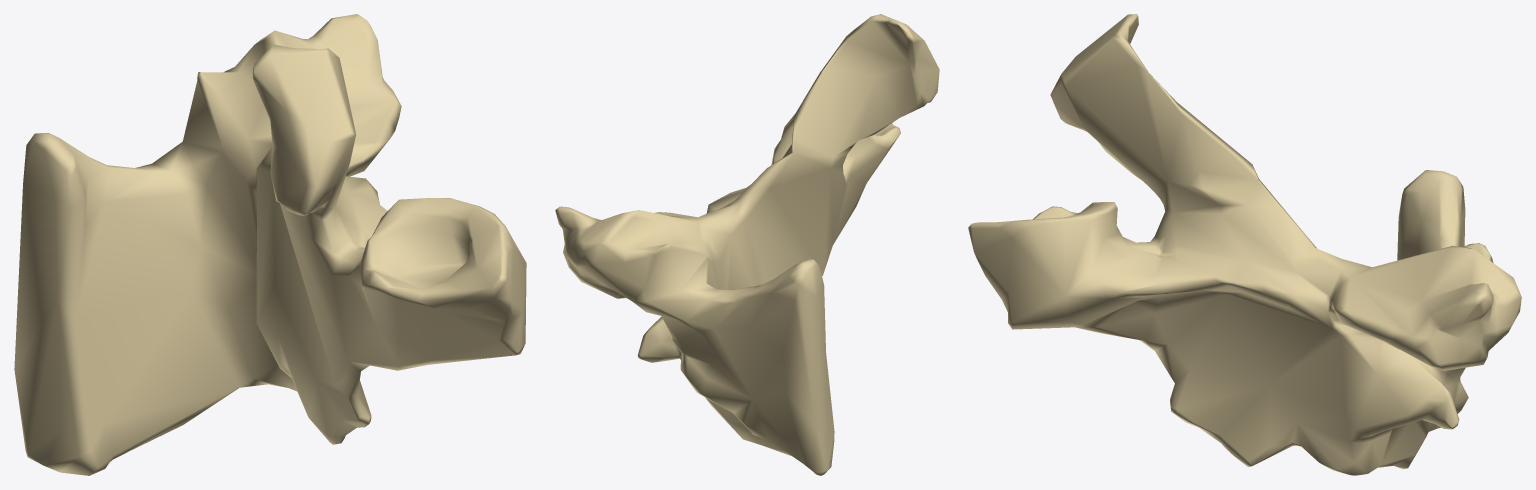
3 renders of one model, left to right at view 1: azimuth 30°, elevation 25°; view 2: azimuth 150°, elevation 25°; view 3: azimuth 270°, elevation 25°, orthographic. The views are drawn at different scales.
Visible parts, largest first — view 1: 左侧腭骨; view 2: 左侧腭骨; view 3: 左侧腭骨.
Part boxes in pixels (bbox=[...]): 左侧腭骨: bbox=[14, 14, 526, 475]; 左侧腭骨: bbox=[555, 14, 939, 475]; 左侧腭骨: bbox=[968, 14, 1521, 475].
Bounding box in the file's own units: 0.0387 × 0.0519 × 0.0592.
